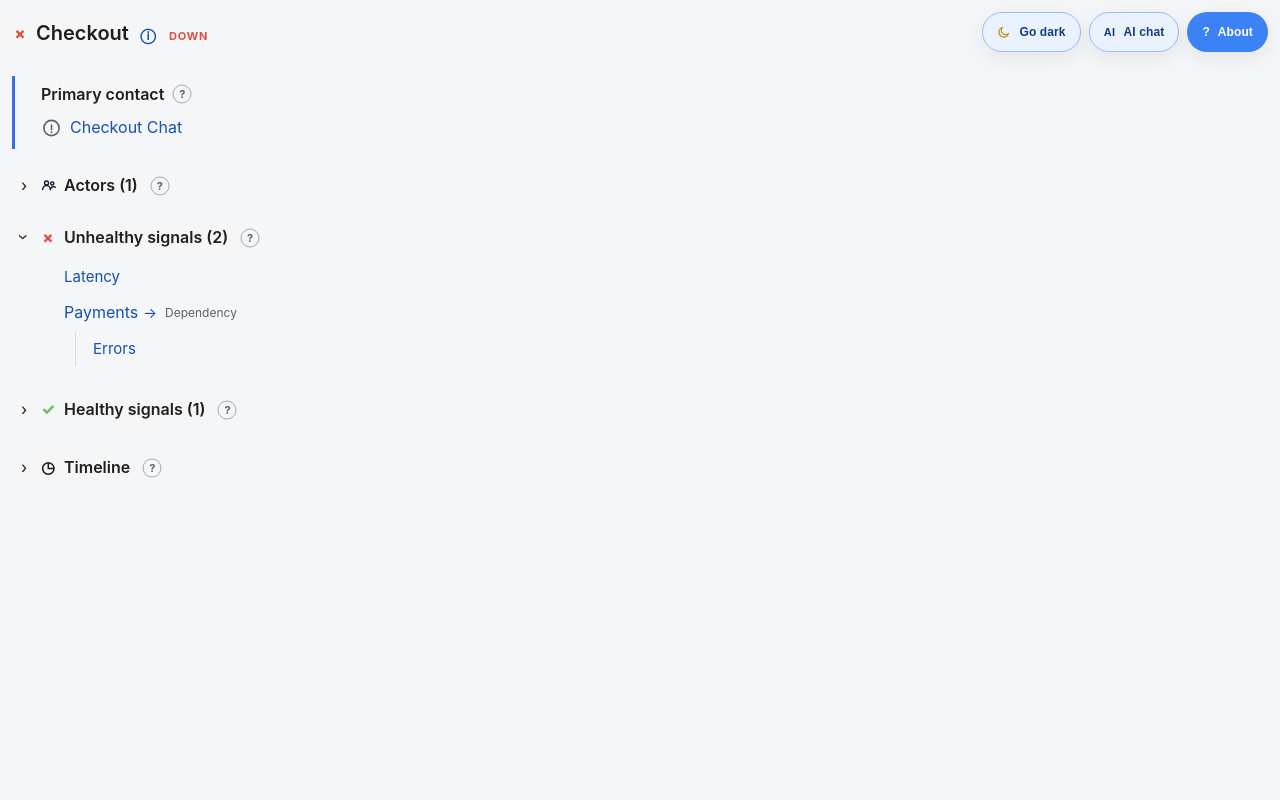
Test case: DetailsPanel contextual help › uses the generic catalog information tooltip when only a detailed description exists
The image size is (1280, 800).
Hover over the button named "Catalog information for Checkout": (148, 34) [135, 22, 161, 48]
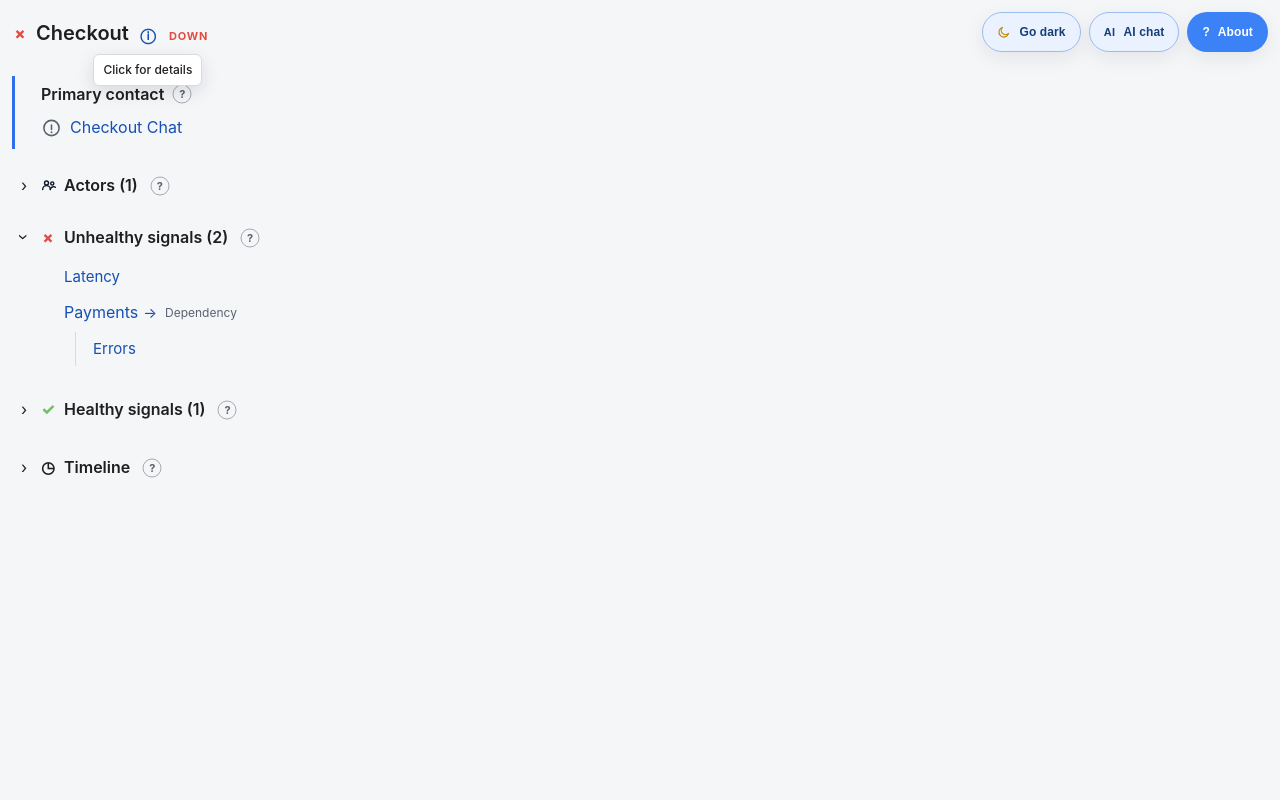
Expected: the tooltip reads "Click for details", [103, 62, 192, 76]
Click the button named "Catalog information for Checkout": (148, 34) [135, 22, 161, 48]
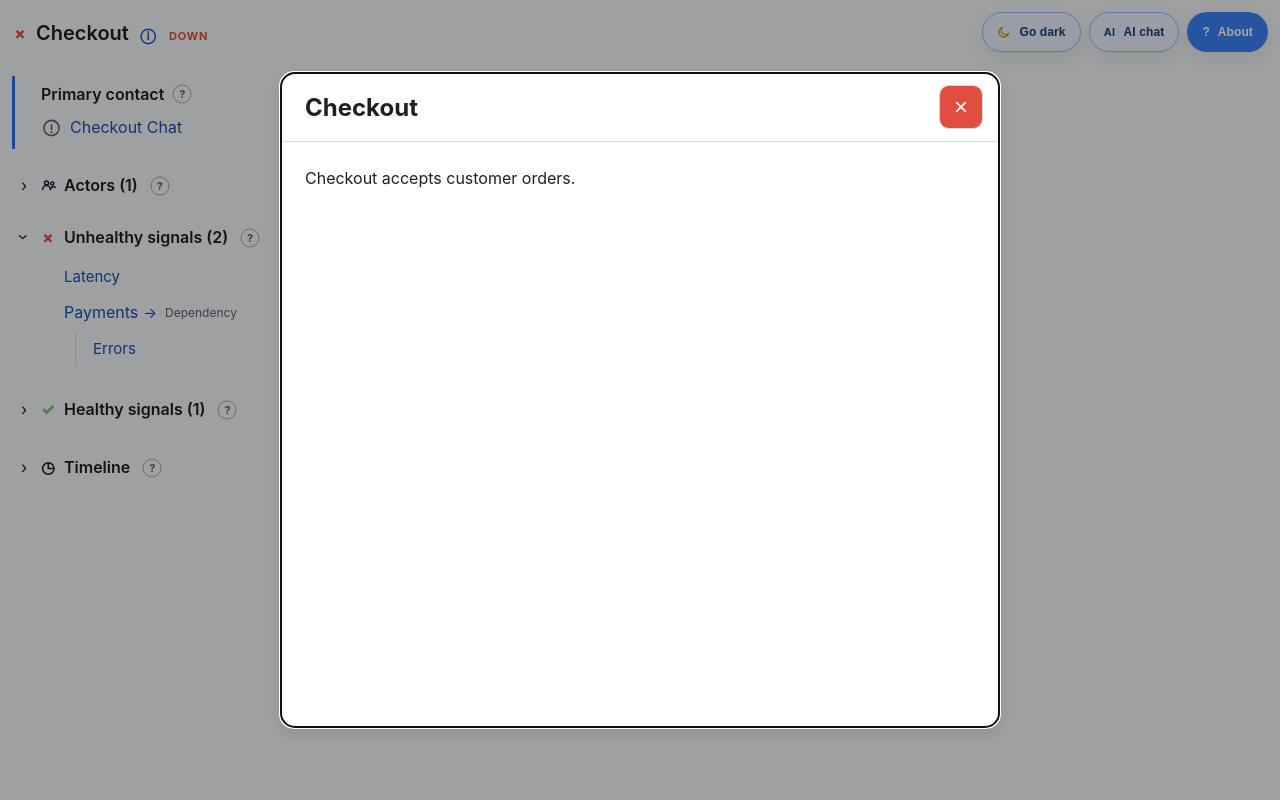
Expected: the dialog named "Catalog information for Checkout" shows "Checkout accepts customer orders.", [305, 168, 575, 188]
